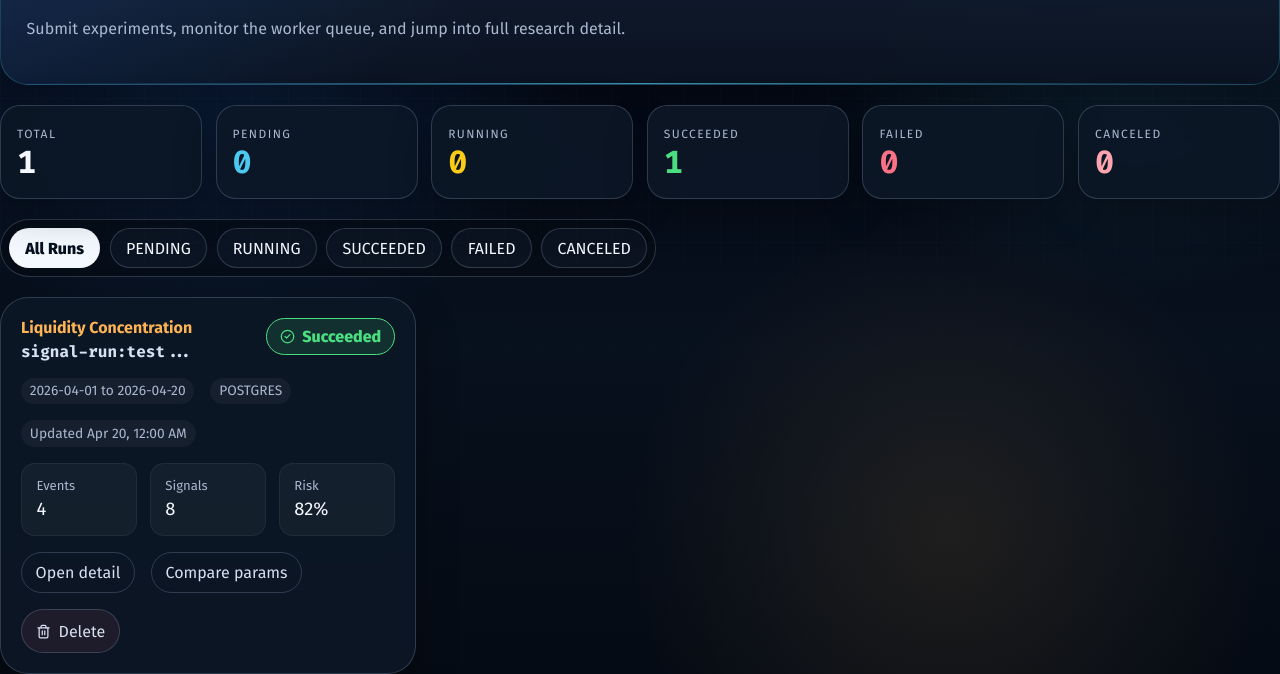
Test case: deletes a completed run from task center
(page scrolled)
Expected: the text "Liquidity Concentration" is shown, [21, 318, 194, 337]
Click the button with aria-label "Delete run signal-run:test": (70, 631) [21, 609, 120, 653]
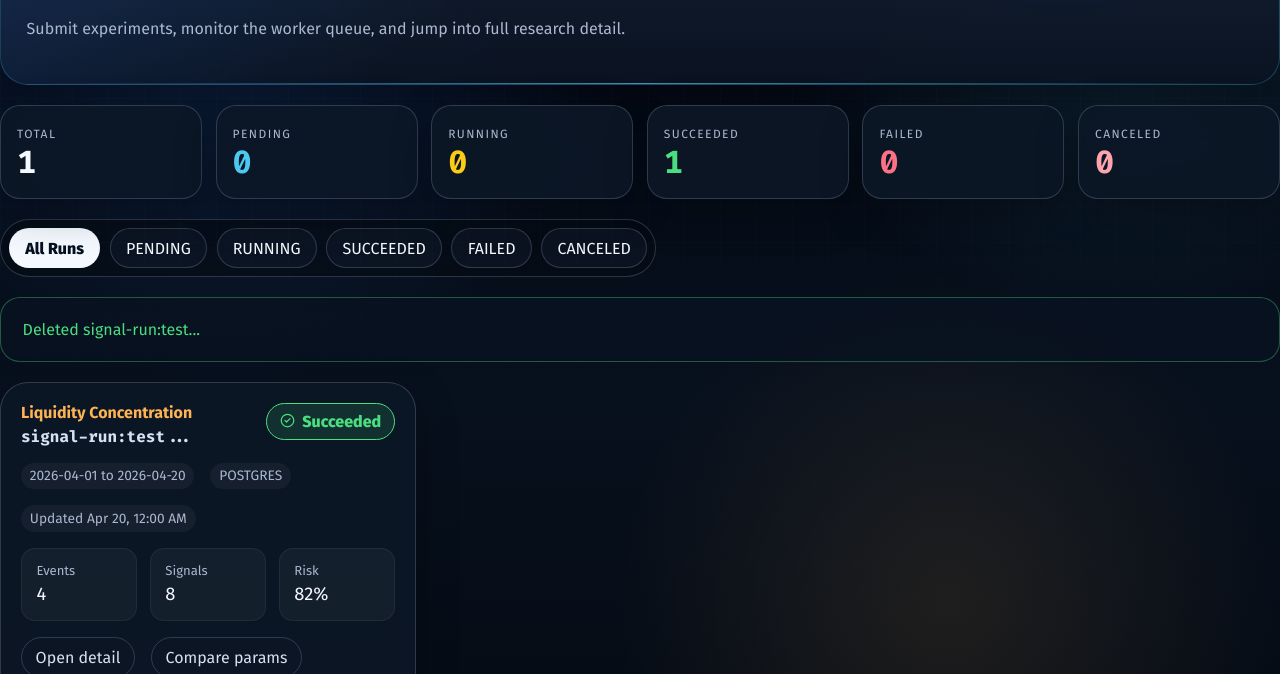
Result: the text "Deleted signal-run:test..." is shown at [0, 297, 1279, 362]
